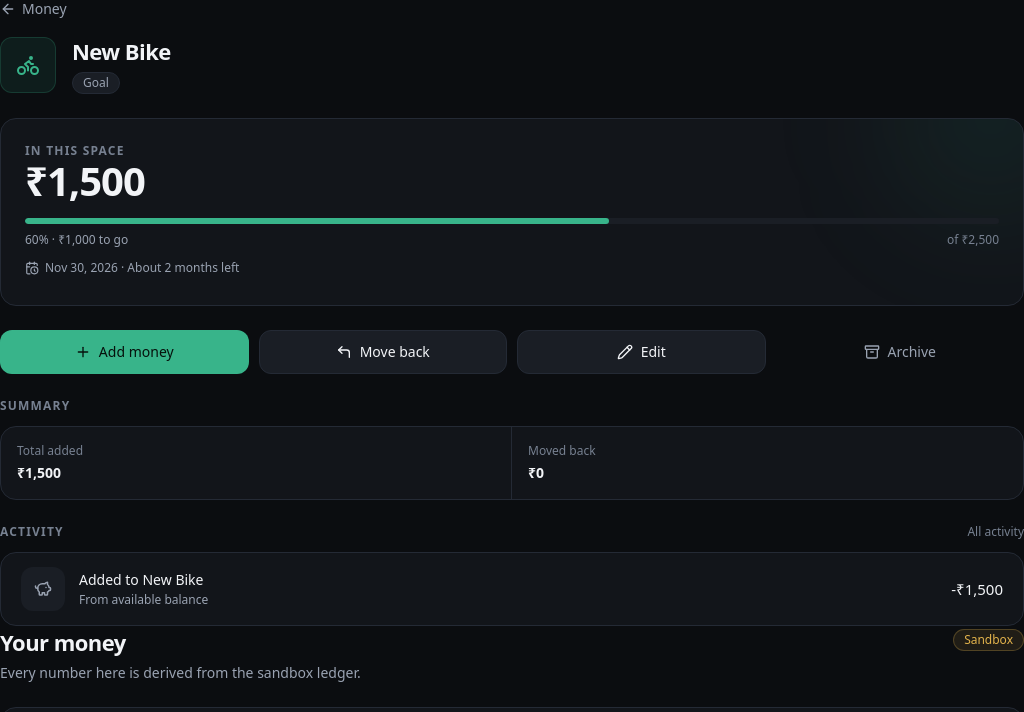
Test: Space detail › archived Spaces stay listed on Money behind a toggle
The width and height of the screenshot is (1024, 712).
Click the button "Archive" at (900, 352), box [776,330,1023,374]
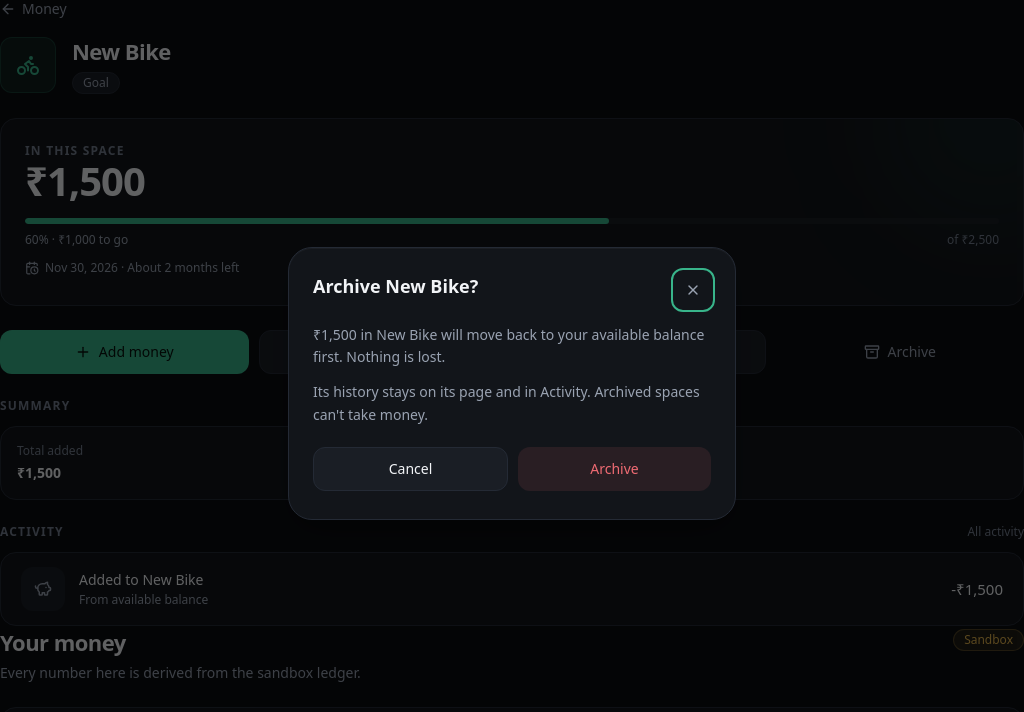
Click the button "Archive" at (614, 468), box [518,446,711,490]
(page scrolled)
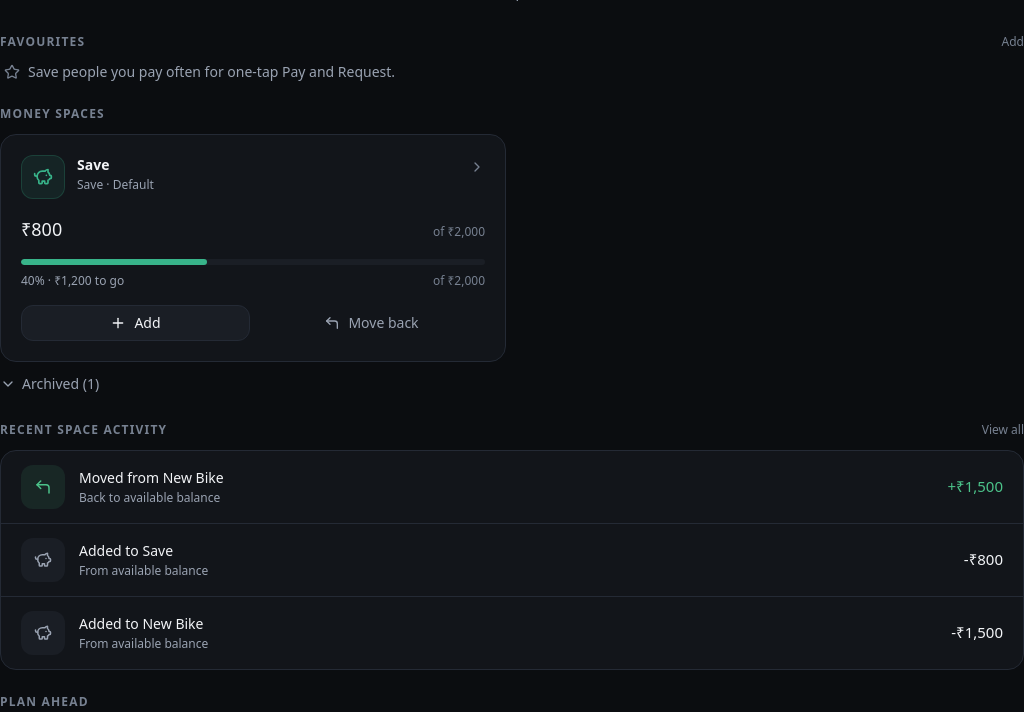
Now the dialog is gone
Click the button "Archived (1)" at (50, 384), box [0,374,99,394]
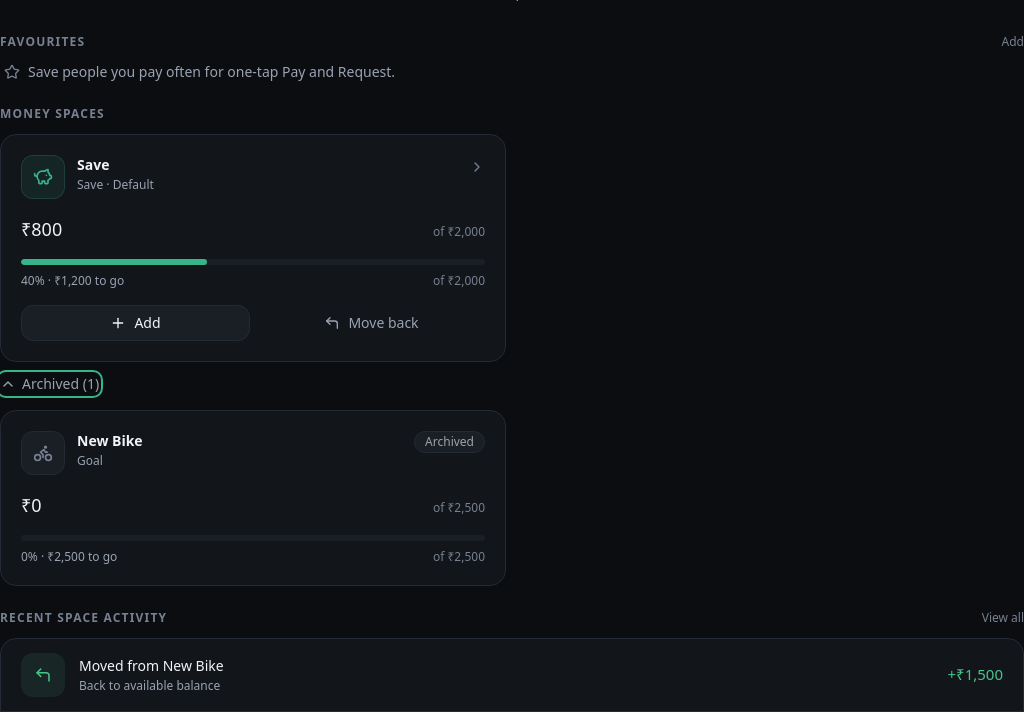
Now the button "Archived (1)" is expanded, box [0,374,99,394]
Now the link "New Bike" is shown, box [77,431,143,450]
